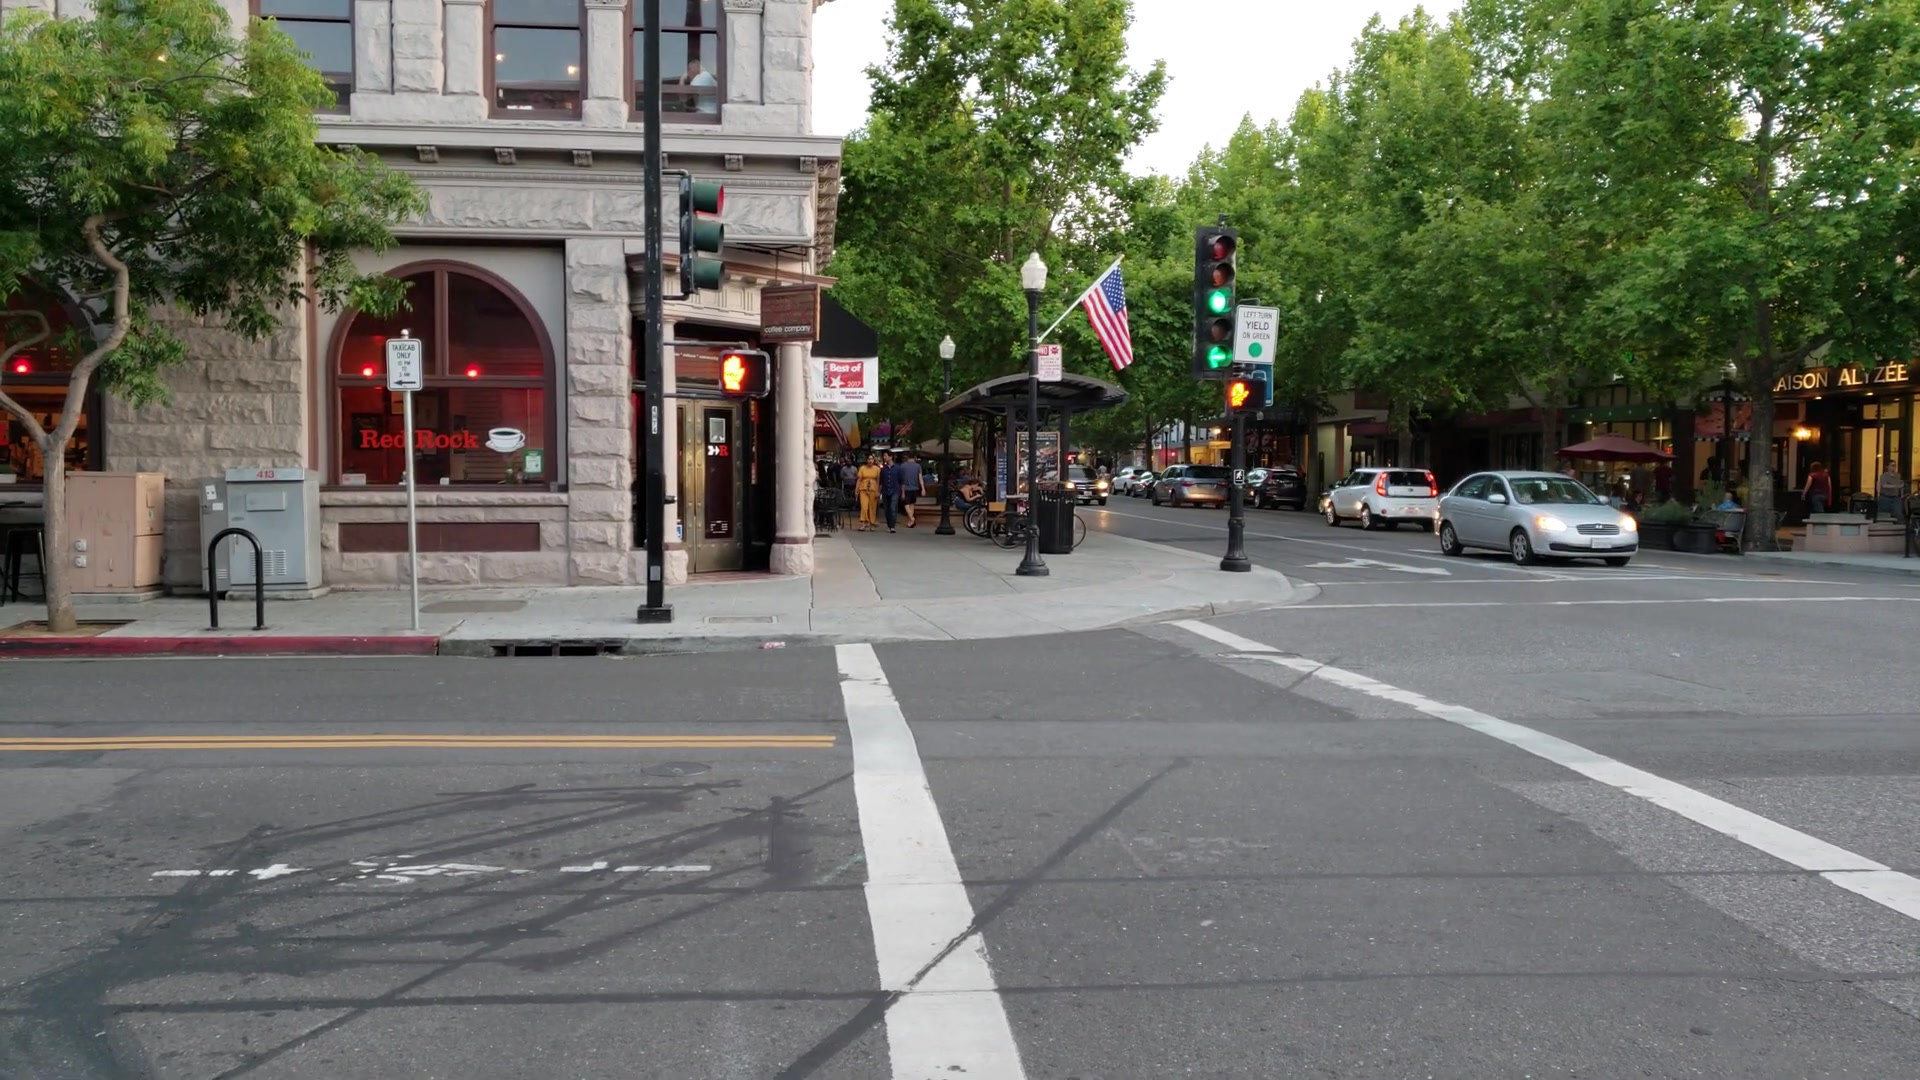vehicle: (1437, 467, 1638, 571), (1327, 465, 1437, 530), (1154, 465, 1228, 509)
